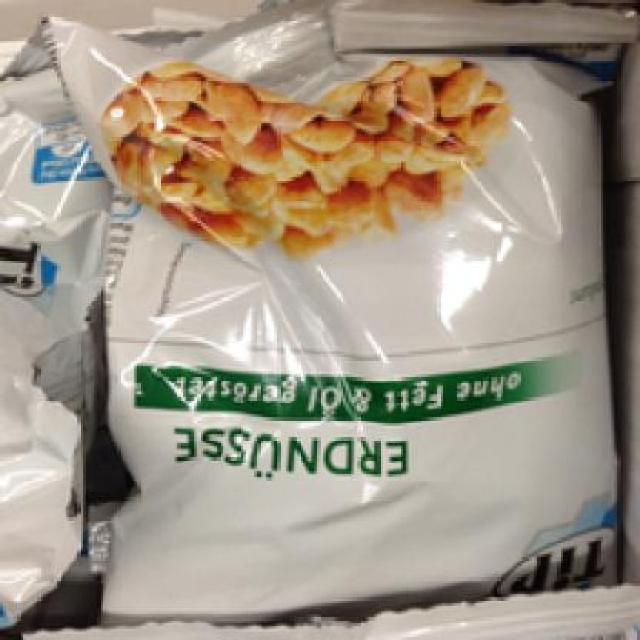Nuts: (40, 11, 637, 620)
